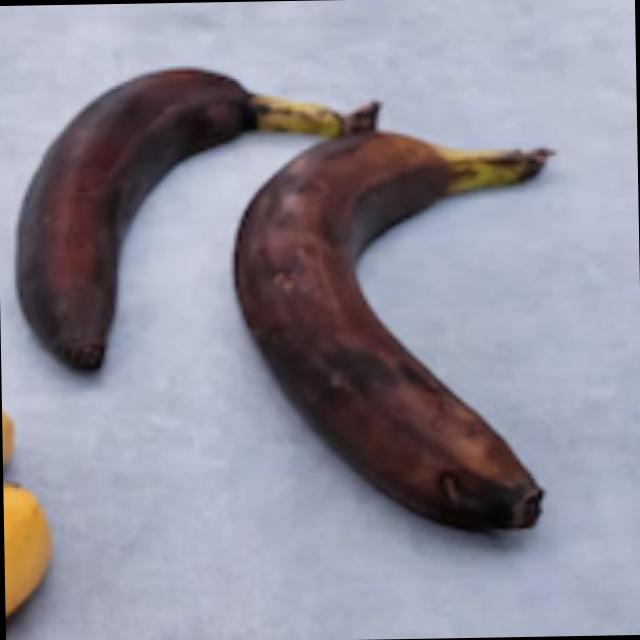rotten-banana: (230, 84, 541, 543), (10, 23, 312, 380)
